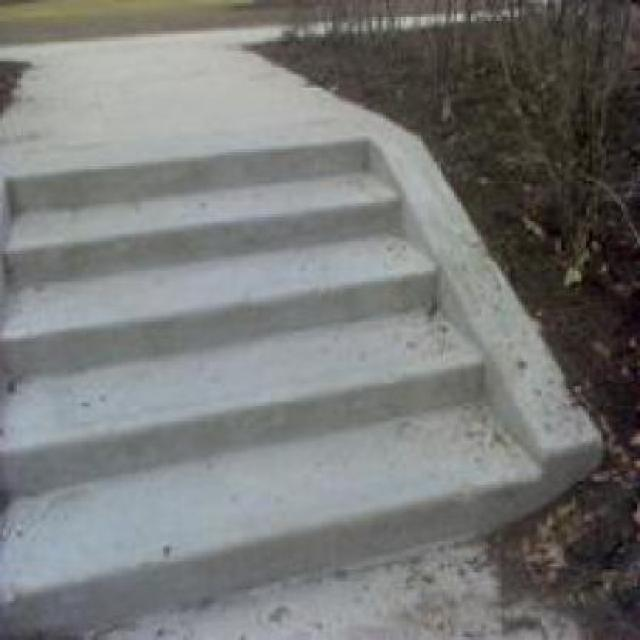stair: (9, 172, 518, 546)
